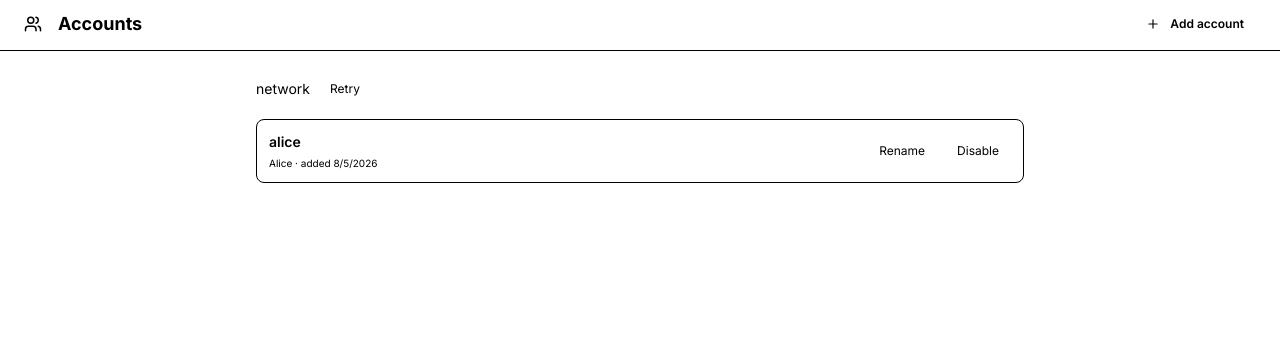
Test case: the list › repairs the signed-in identity after its startup read failed
The width and height of the screenshot is (1280, 354).
Expected: the message reads "network", [256, 80, 310, 97]
Expected: the text "you" is not shown
Click the button "Retry" at (345,89), box [318, 75, 372, 103]
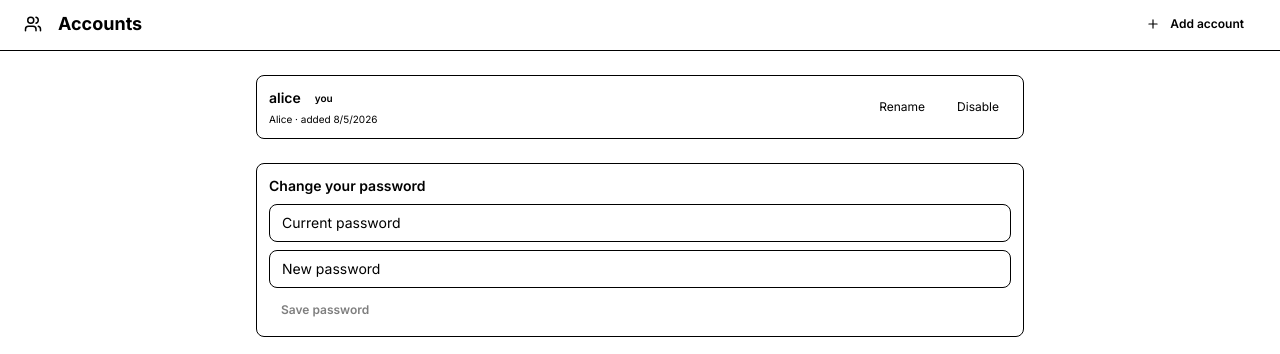
Expected: the text "you" is shown, [315, 92, 333, 104]
Expected: the form "your password" is shown, [256, 163, 1024, 337]
